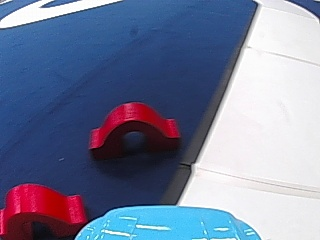bridge: (86, 98, 180, 159), (3, 176, 91, 239)
